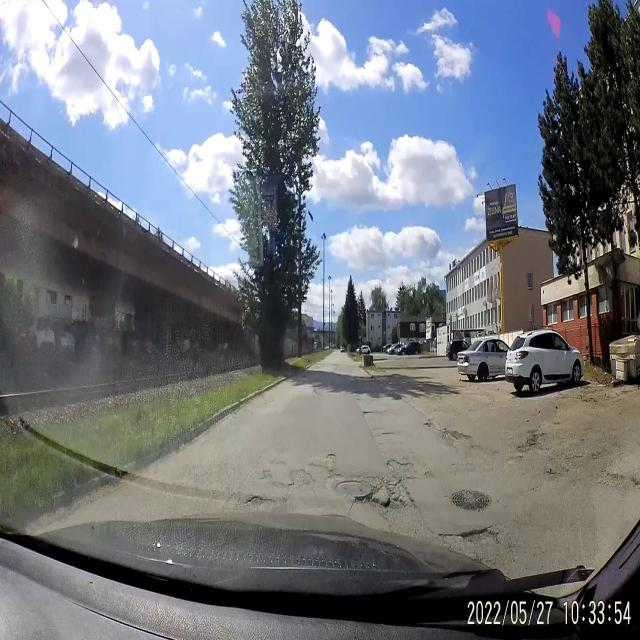Manhole: (448, 486, 494, 514), (335, 474, 373, 503)
Pothole: (450, 521, 500, 552), (372, 486, 412, 521), (282, 463, 313, 492), (384, 455, 414, 481), (242, 486, 266, 509), (320, 449, 338, 471), (381, 428, 396, 443), (360, 408, 378, 419)
